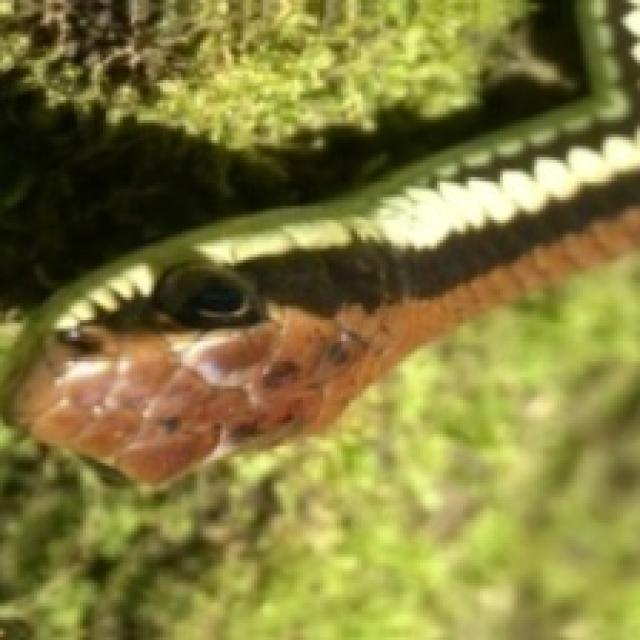philippine bronzeback treesnake: (0, 0, 637, 486)
